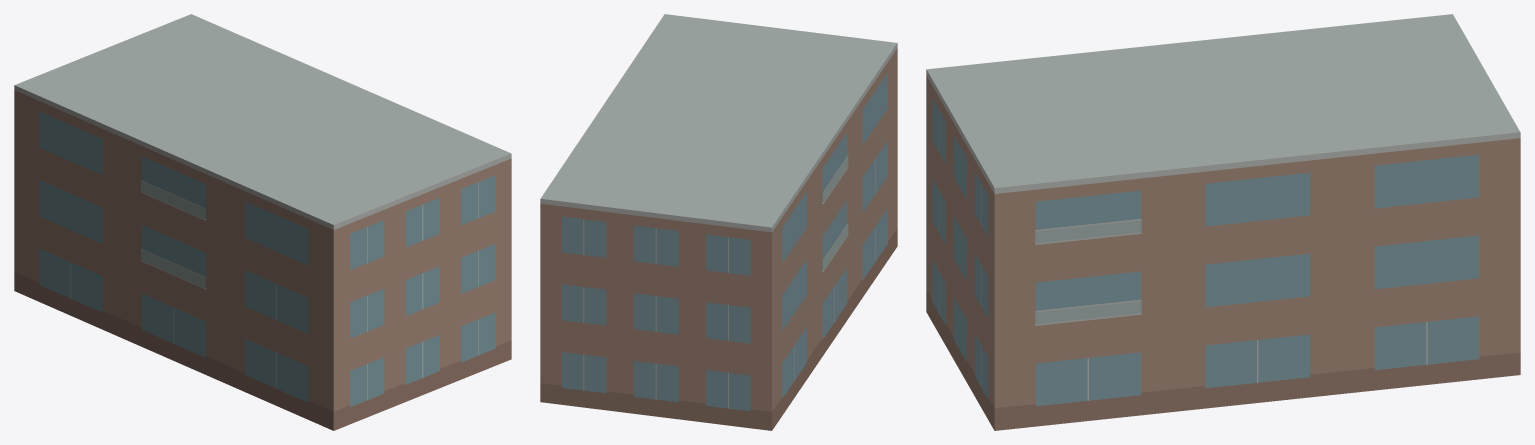
File: survey-upis-32924113.glb
The picture shows the model from 3 angles, left to right: view 1: azimuth 30°, elevation 25°; view 2: azimuth 150°, elevation 25°; view 3: azimuth 270°, elevation 25°; orthographic projection. The views are drawn at different scales.
Parts seen in each view (by area): view 1: survey-upis-32924113.tmp; view 2: survey-upis-32924113.tmp; view 3: survey-upis-32924113.tmp.
Part boxes in pixels (<box>): survey-upis-32924113.tmp: <box>14,14,511,430</box>; survey-upis-32924113.tmp: <box>540,14,897,430</box>; survey-upis-32924113.tmp: <box>926,14,1520,430</box>.
Bounding box in the file's own units: 15.72 × 10.2 × 22.64.
